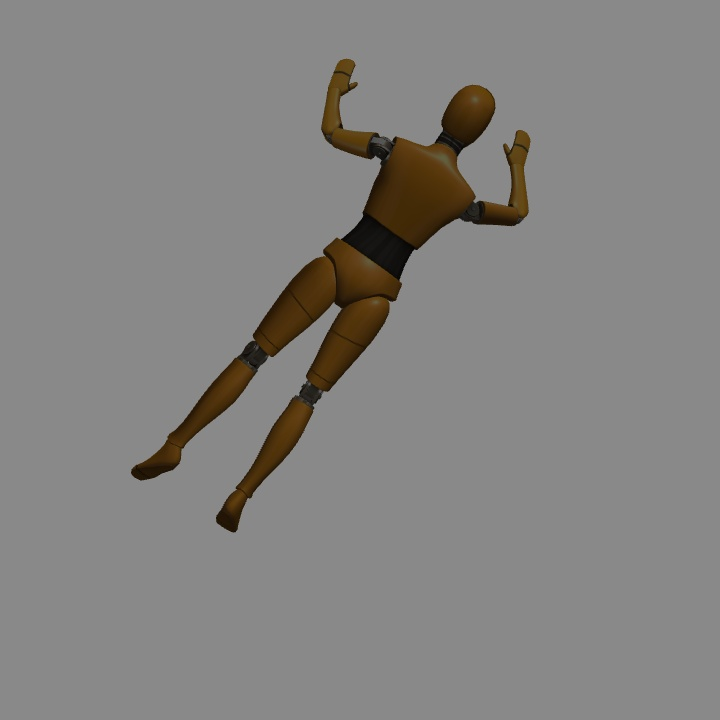victim: (133, 82, 530, 533)
